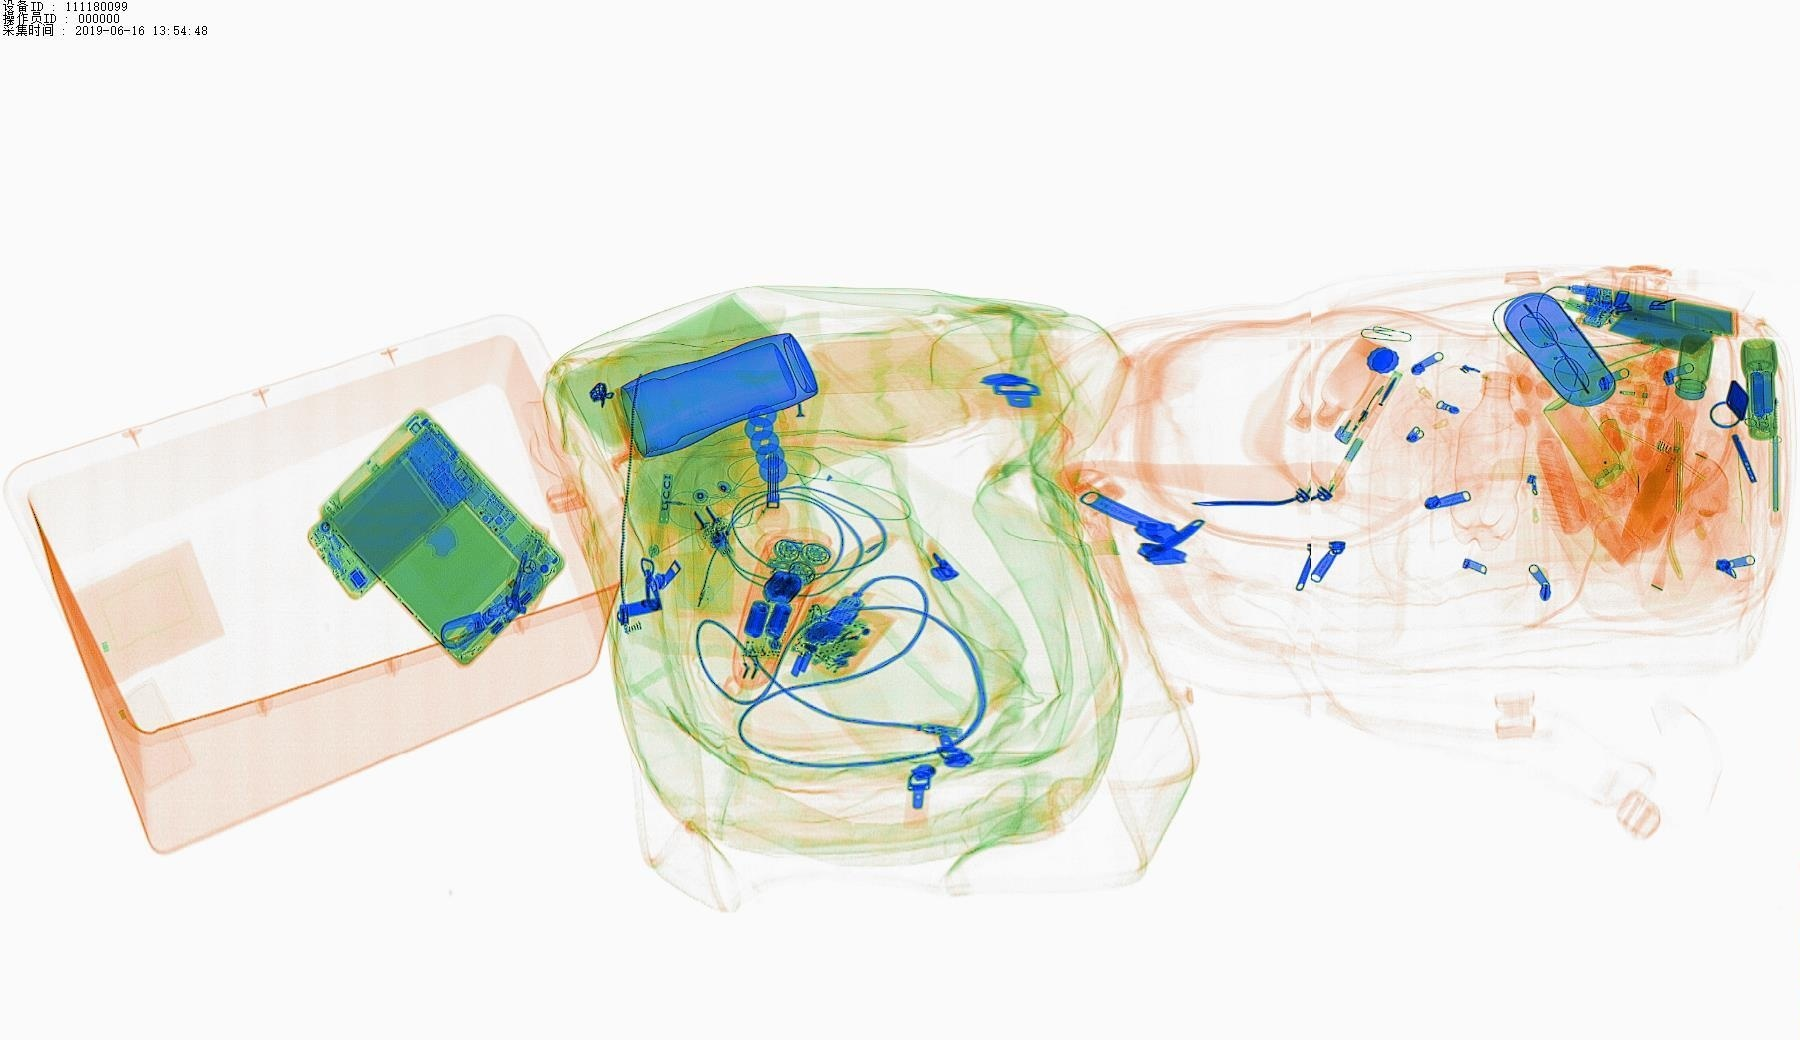NonmetallicFire: (1328, 357, 1403, 466)
